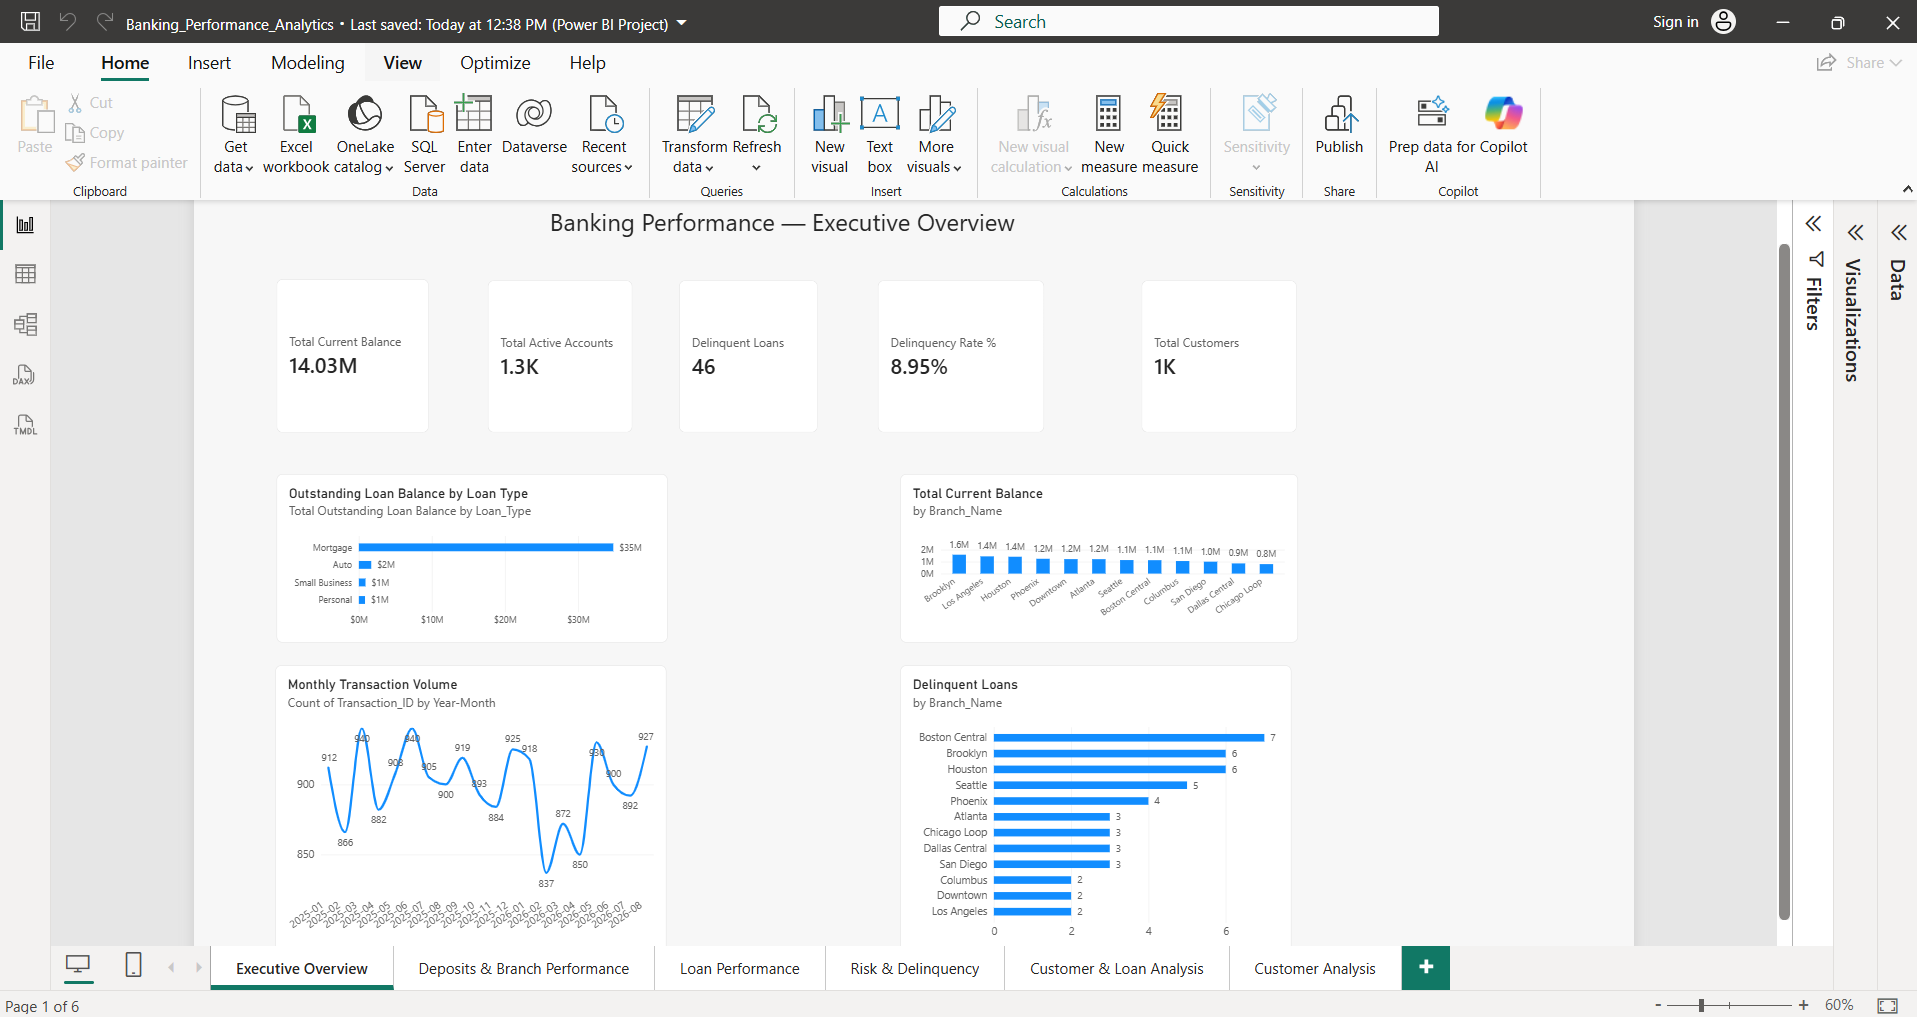

The dashboard page shown, as its layout file describes it:
{"tool":"powerbi","page":{"name":"Executive Overview","canvas":[1920,1080],"ordinal":0},"visuals":[{"type":"cardVisual","fields":{"Data":["Accounts.Delinquent Loans"]},"box":[646.7,155,185,203.3],"z":1},{"type":"cardVisual","fields":{"Data":["Accounts.Total Active Accounts"]},"box":[391.7,155,193.3,203.3],"z":2},{"type":"cardVisual","fields":{"Data":["Accounts.Delinquency Rate %"]},"box":[911.7,155,222.5,203.8],"z":3},{"type":"cardVisual","fields":{"Data":["Accounts.Total Customers"]},"box":[1263.3,155,207.5,203.8],"z":4},{"type":"clusteredBarChart","title":"Outstanding Loan Balance by Loan Type","fields":{"Category":["Loans.Loan_Type"],"Y":["Accounts.Total Outstanding Loan Balance"]},"box":[110,413.3,521.2,225],"z":5},{"type":"clusteredColumnChart","fields":{"Category":["Branches.Branch_Name"],"Y":["Accounts.Total Current Balance"]},"box":[941.7,413.3,530,225],"z":6},{"type":"lineChart","title":"Monthly Transaction Volume","fields":{"Category":["DateTable.Year-Month"],"Y":["CountNonNull(Transactions.Transaction_ID)"]},"box":[108.3,668.3,521.7,386.7],"z":7},{"type":"clusteredBarChart","fields":{"Category":["Branches.Branch_Name"],"Y":["Accounts.Delinquent Loans"]},"box":[941.7,668.3,521.7,386.7],"z":8},{"type":"cardVisual","fields":{"Data":["Accounts.Total Current Balance"]},"box":[110,153.3,203.3,205],"z":9},{"type":"textbox","box":[80,55,1391.7,68.3],"z":10}]}

Visuals, with their boxes on the page's 1920x1080 design canvas (x1, y1, x2, y2). These are canvas units, not pixel positions in the 1917x1017 screenshot, which may show the page scaled, cropped or inside an application window:
cardVisual - Accounts.Delinquent Loans: <box>647,155,832,358</box>
cardVisual - Accounts.Total Active Accounts: <box>392,155,585,358</box>
cardVisual - Accounts.Delinquency Rate %: <box>912,155,1134,359</box>
cardVisual - Accounts.Total Customers: <box>1263,155,1471,359</box>
"Outstanding Loan Balance by Loan Type" clusteredBarChart: <box>110,413,631,638</box>
clusteredColumnChart - Branches.Branch_Name x Accounts.Total Current Balance: <box>942,413,1472,638</box>
"Monthly Transaction Volume" lineChart: <box>108,668,630,1055</box>
clusteredBarChart - Branches.Branch_Name x Accounts.Delinquent Loans: <box>942,668,1463,1055</box>
cardVisual - Accounts.Total Current Balance: <box>110,153,313,358</box>
textbox: <box>80,55,1472,123</box>
